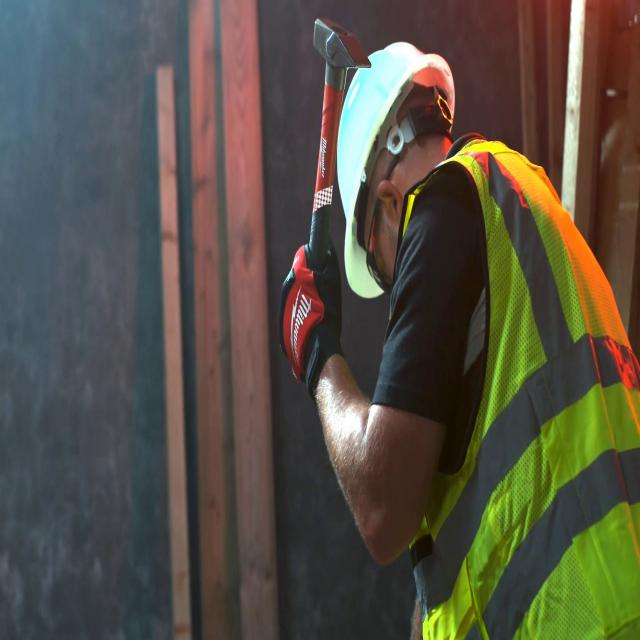hammer: (309, 17, 371, 268)
